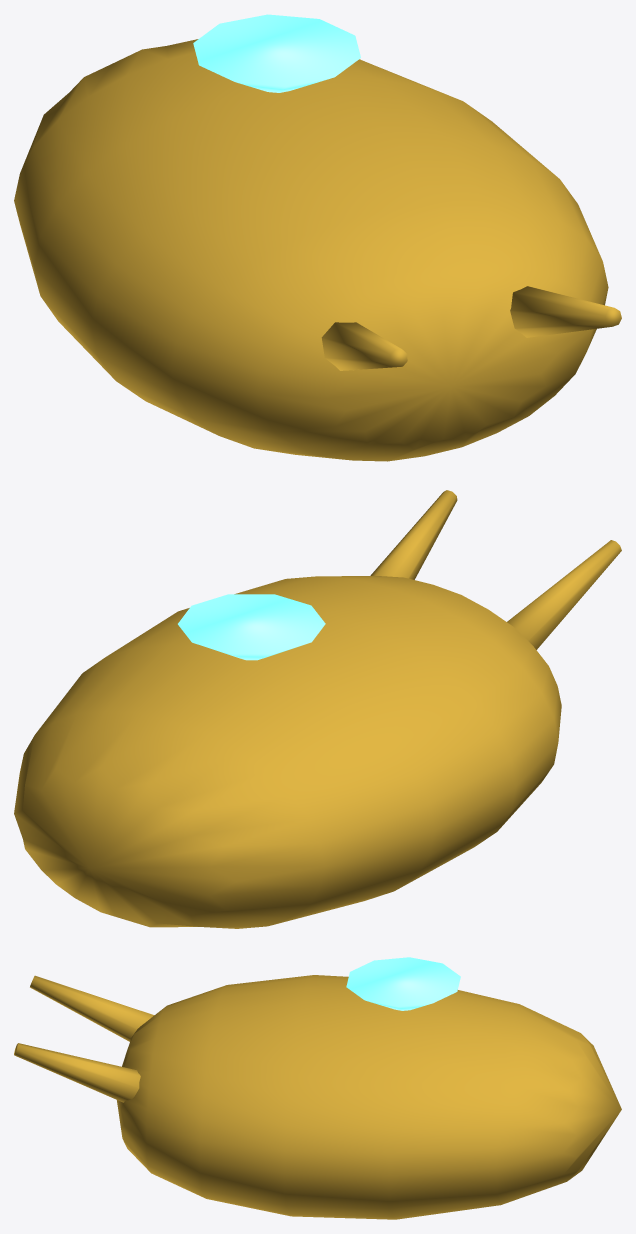
File: scarab.glb
3 views of the same model, one above another, from view 1: azimuth 30°, elevation 25°; view 2: azimuth 150°, elevation 25°; view 3: azimuth 270°, elevation 25° (orthographic). The views are drawn at different scales.
Parts seen in each view (by area): view 1: Carapace, GemCore, Horn_1, Horn_-1; view 2: Carapace, GemCore, Horn_-1, Horn_1; view 3: Carapace, GemCore, Horn_1, Horn_-1.
Part boxes in pixels (<box>): Carapace: <box>14,39,608,461</box>; GemCore: <box>193,14,360,92</box>; Horn_1: <box>510,286,621,337</box>; Horn_-1: <box>321,322,407,370</box>; Carapace: <box>14,576,561,928</box>; GemCore: <box>178,594,325,660</box>; Horn_-1: <box>507,540,621,649</box>; Horn_1: <box>370,490,457,579</box>; Carapace: <box>117,975,621,1219</box>; GemCore: <box>346,957,460,1010</box>; Horn_1: <box>14,1043,140,1102</box>; Horn_-1: <box>30,975,154,1041</box>.
Bounding box in the file's own units: 0.5741 × 0.3564 × 0.9328.
2 materials, 2 textured.
